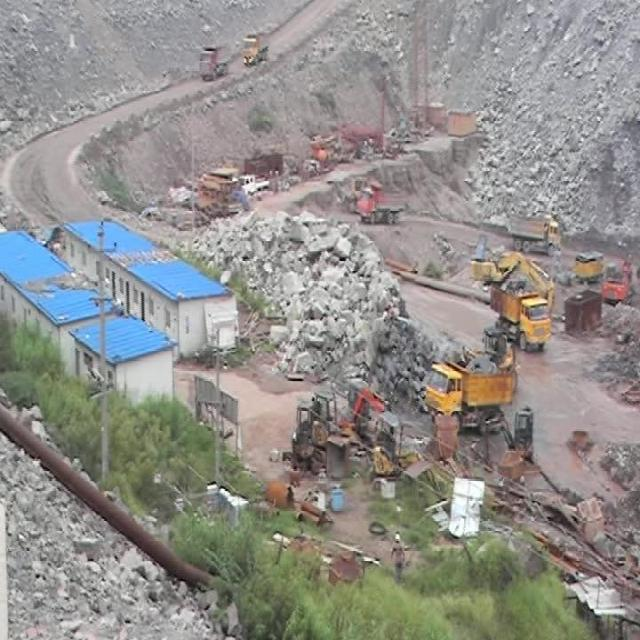excavator: (462, 234, 563, 296)
truck: (502, 202, 571, 257), (349, 177, 417, 231)
